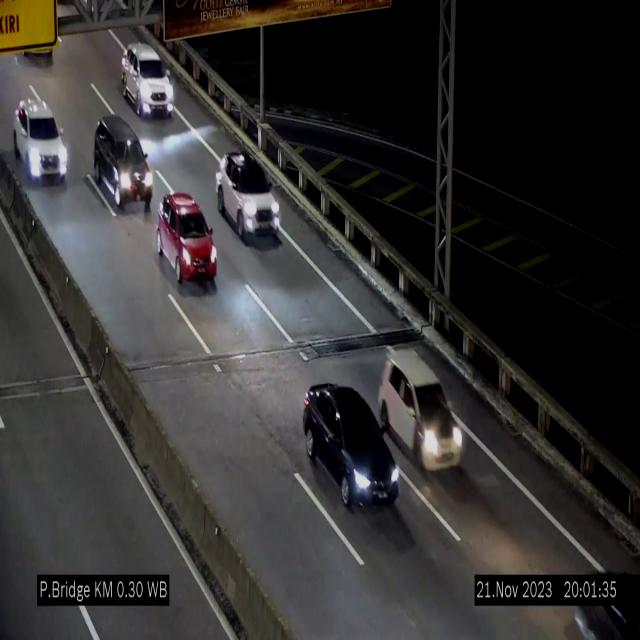Car: (303, 379, 402, 518), (380, 344, 466, 473), (216, 152, 282, 244), (94, 118, 152, 214), (158, 192, 216, 285), (14, 99, 68, 181), (121, 43, 175, 117)
